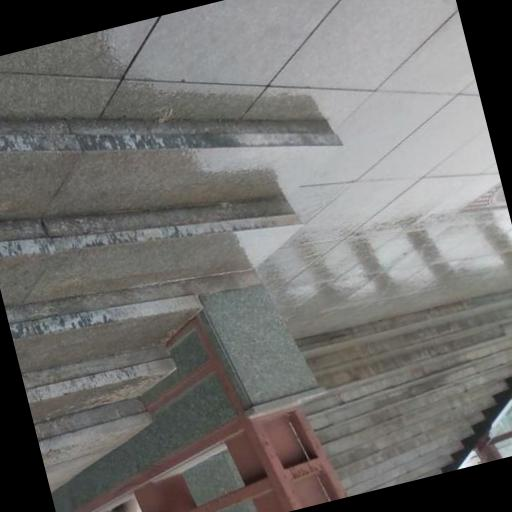stairs: (0, 119, 338, 490), (298, 290, 511, 496)
